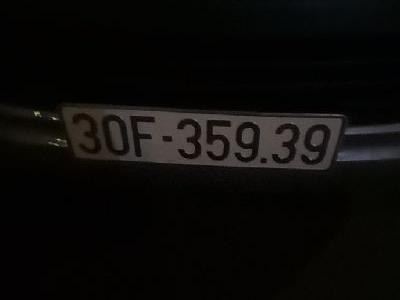number: (59, 102, 342, 175)
